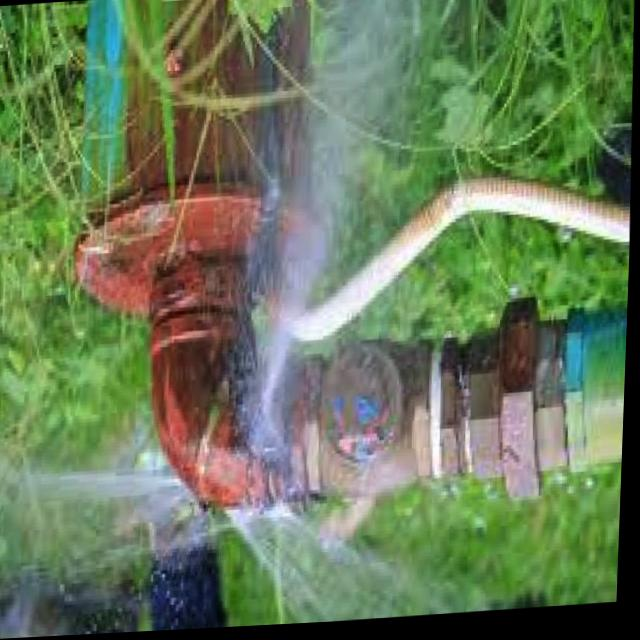leak: (226, 474, 407, 624), (238, 325, 297, 474), (410, 584, 452, 616)
